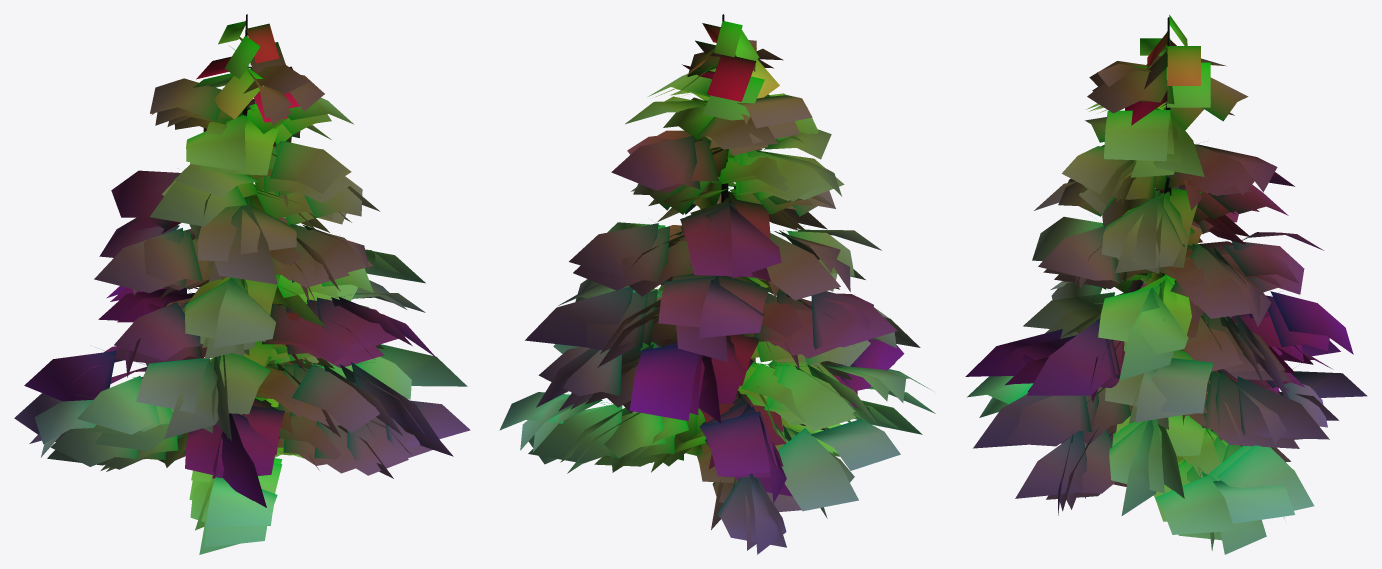
The model's file is Spruce.fbx.
3 renders of one model, left to right at view 1: azimuth 30°, elevation 25°; view 2: azimuth 150°, elevation 25°; view 3: azimuth 270°, elevation 25°, orthographic.
Parts seen in each view (by area): view 1: Tree_1; view 2: Tree_1; view 3: Tree_1.
Part boxes in pixels (x1=…): Tree_1: x1=14, y1=21, x2=470, y2=554; Tree_1: x1=499, y1=21, x2=935, y2=554; Tree_1: x1=965, y1=14, x2=1367, y2=554.
Size of the model in its own units: 331 by 381 by 296.
